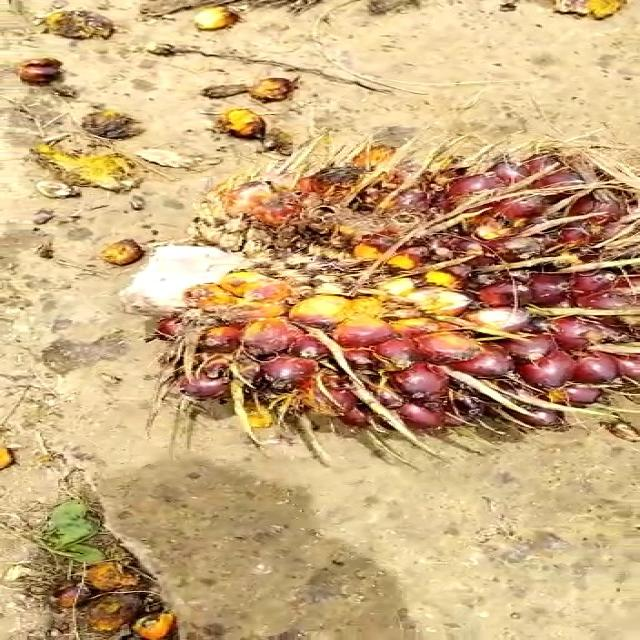palm oil: (136, 133, 640, 459)
